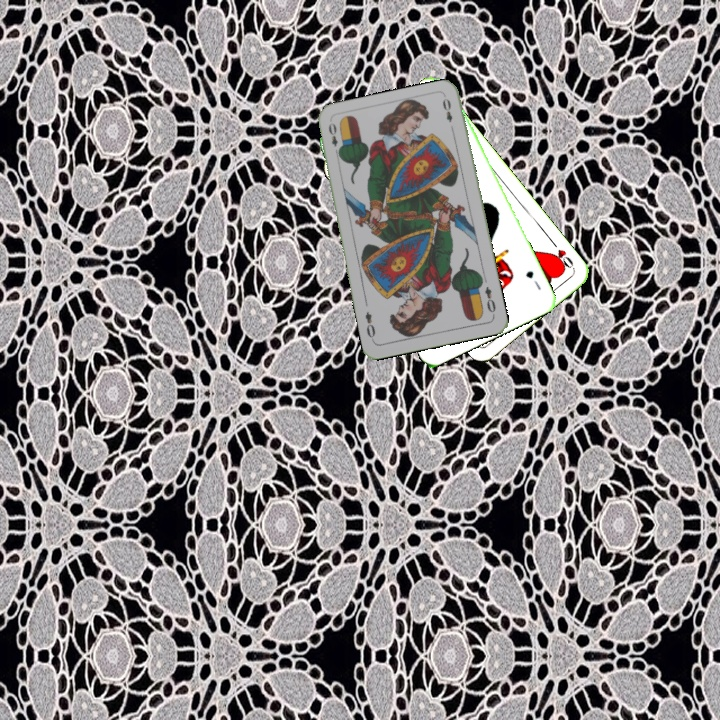EO: (324, 119, 343, 158), (481, 283, 498, 318)
GU: (522, 267, 544, 292)
HO: (547, 237, 577, 272)
